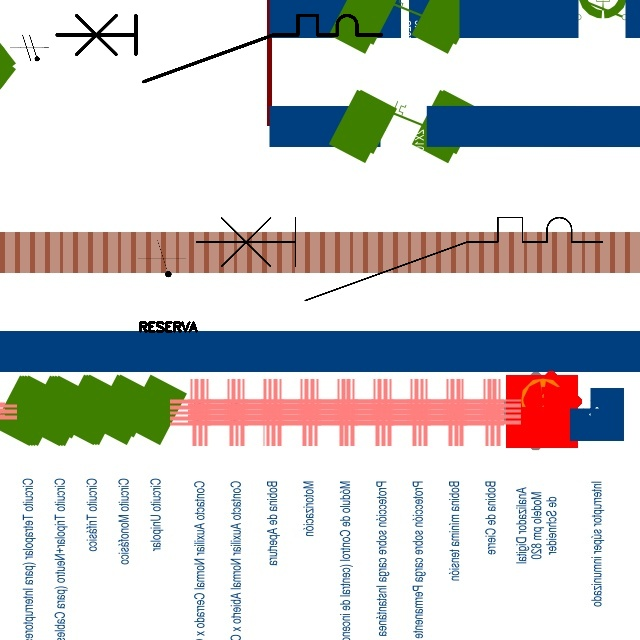interruptor_termomagnetico: (186, 207, 613, 311), (48, 7, 389, 90)
